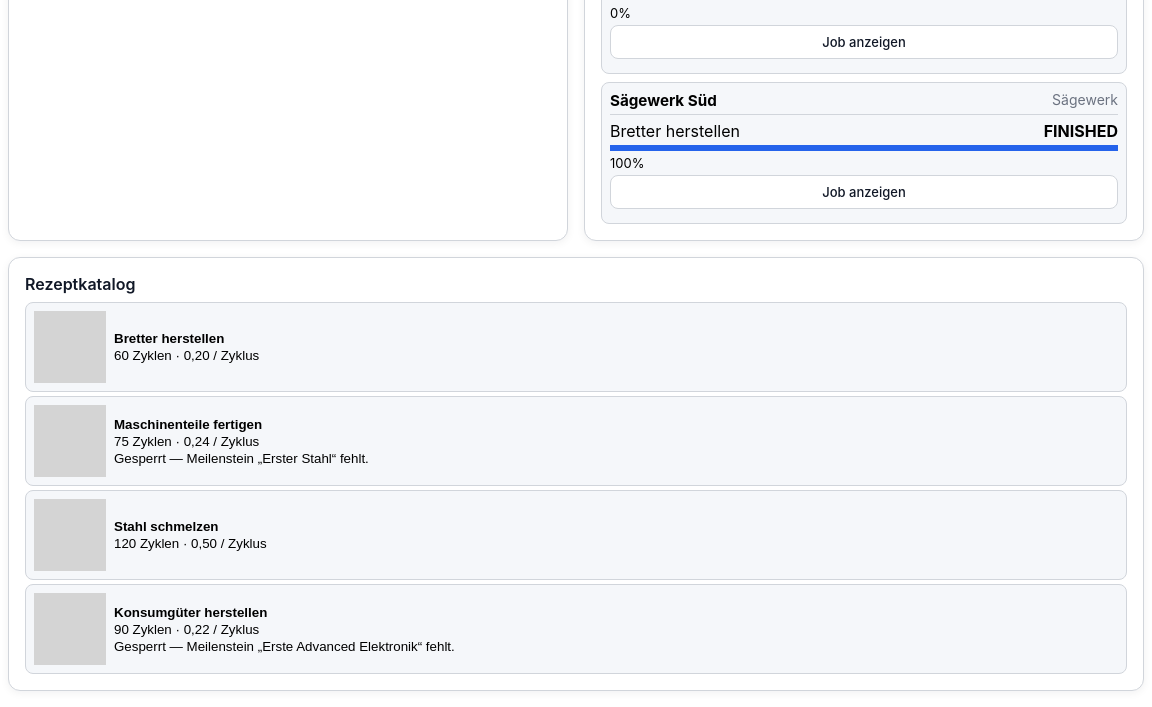
Test case: ProductionScreen › shows recipe input availability table when a catalog recipe is selected
(page scrolled)
What coordinates should you click on to do the following:
click the button "Bretter herstellen 60 Zyklen · 0,20 / Zyklus"
I would click on:
 (70, 347)
Its box is [25,302,1127,392].
(page scrolled)
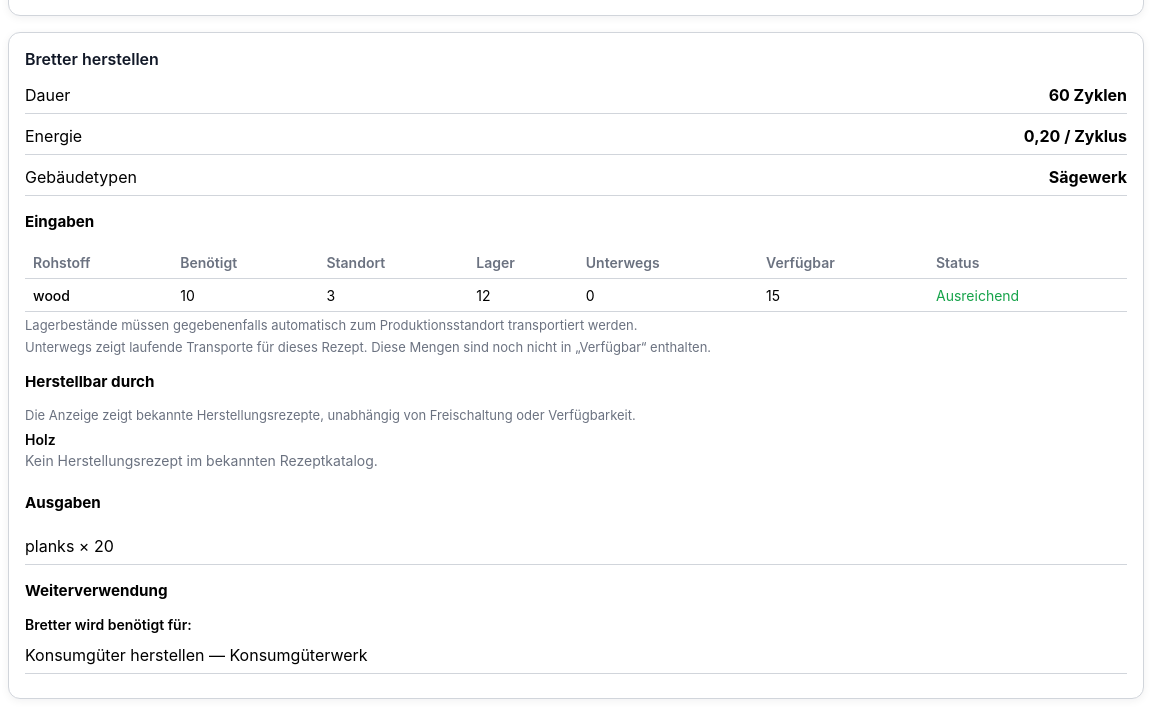
Expected: the table is shown, [25,247,1127,312]
Expected: the column heading "Unterwegs" is shown, [578,247,758,279]
Expected: the row "wood 10 3 12 0 15 Ausreichend" is shown, [25,279,1127,311]
